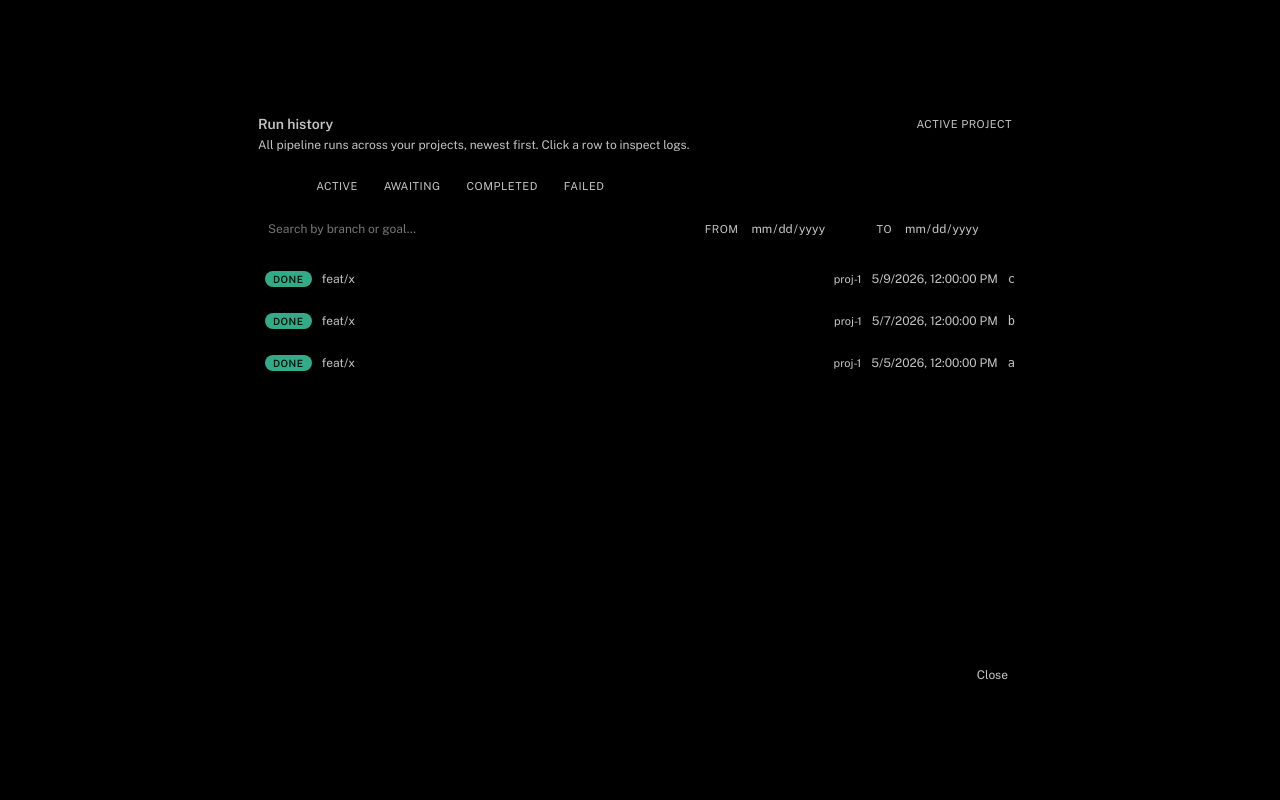
it: RunHistoryPanel › date range filter narrows runs by startedAt (inclusive on both sides)
Type "2026-05-06" into the date field with test id "run-history-date-from" at (806,229), box [742, 216, 868, 242]
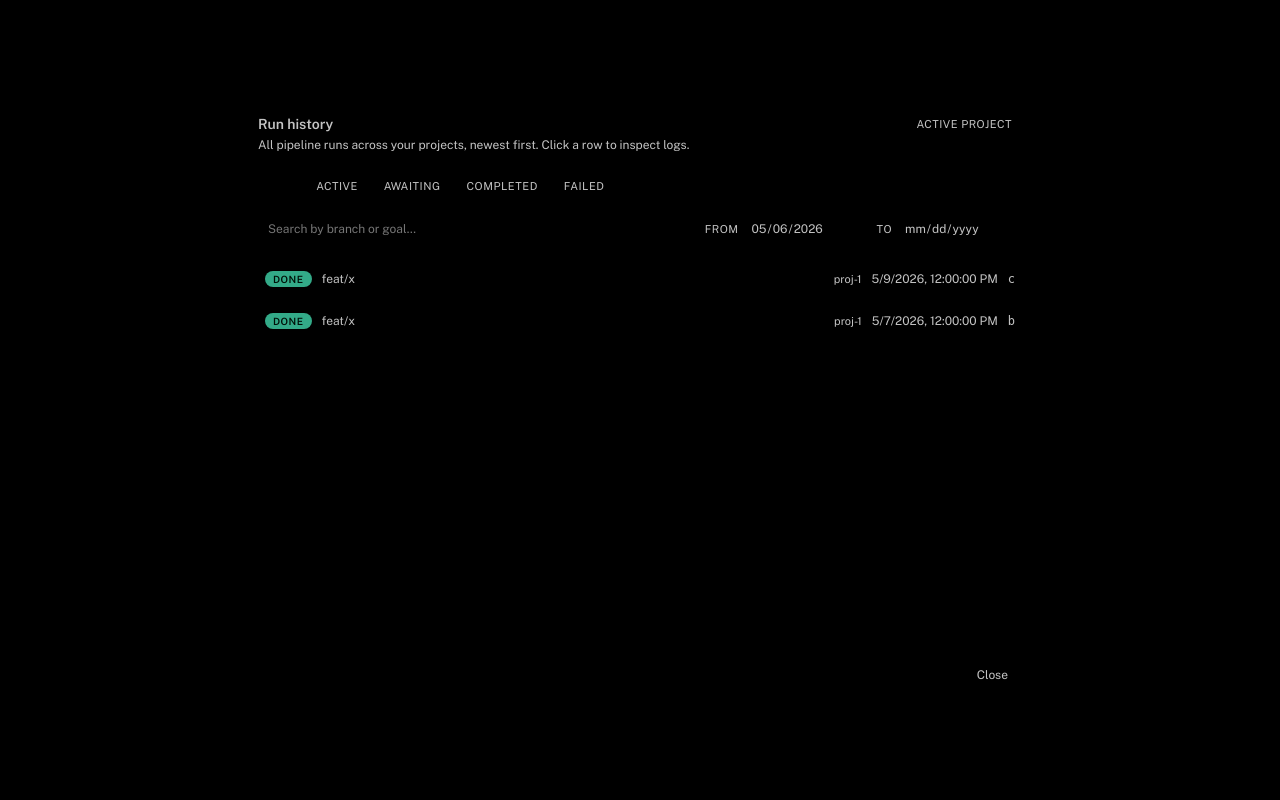
Type "2026-05-08" into the date field with test id "run-history-date-to" at (959,229), box [896, 216, 1022, 242]
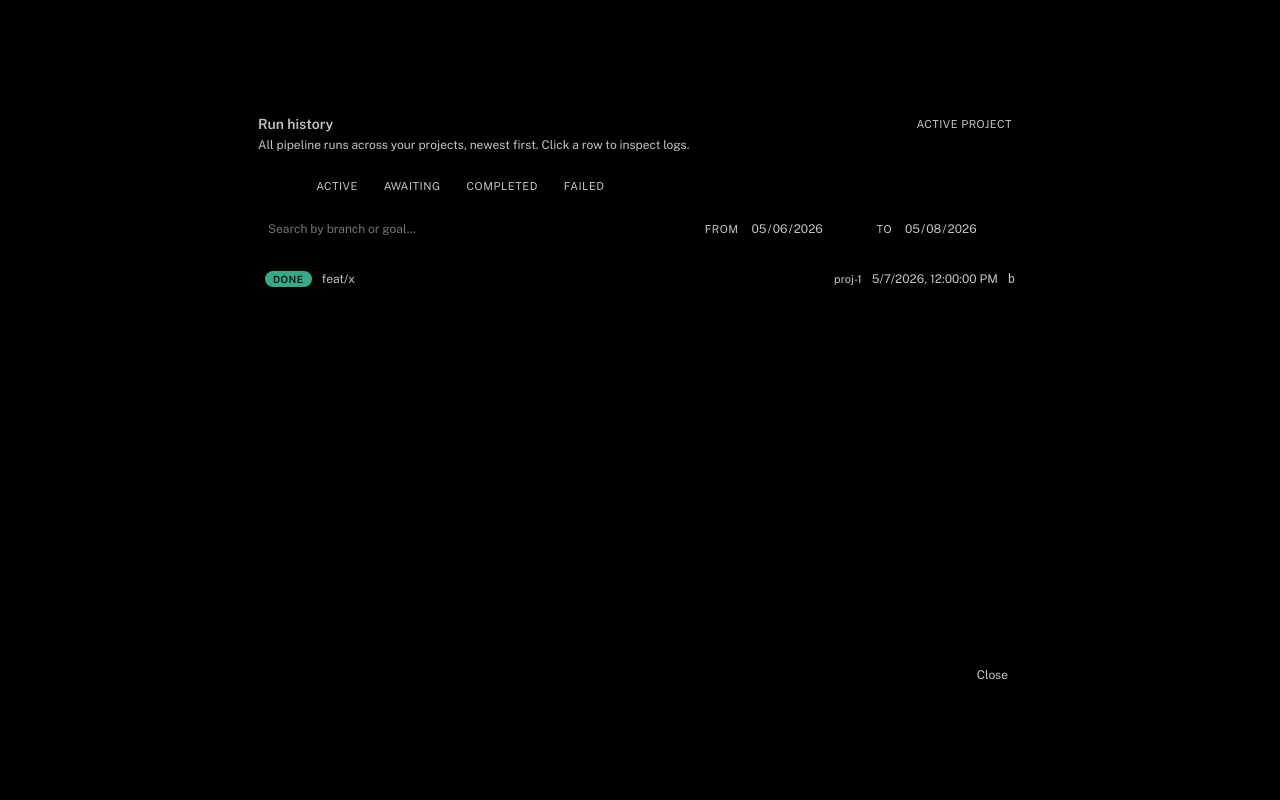
expect the number of buttons with test id "run-history-row" is 1: met, box [252, 260, 1028, 298]
